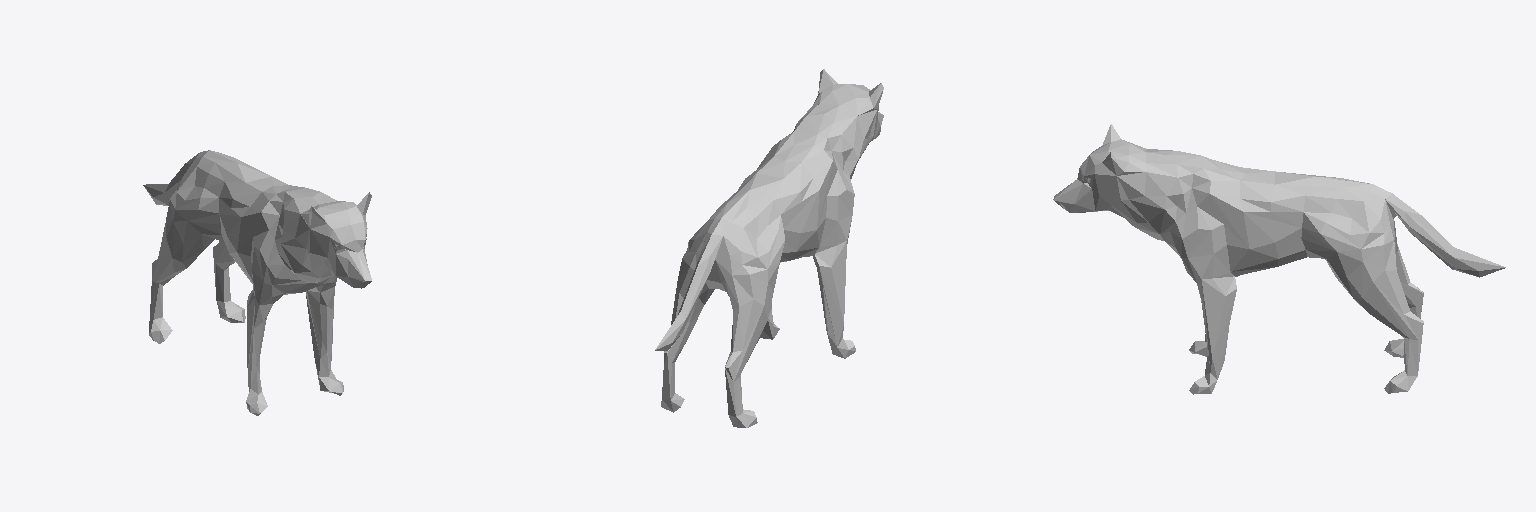
The model's file is wolf.obj.
3 renders of one model, left to right at view 1: azimuth 30°, elevation 25°; view 2: azimuth 150°, elevation 25°; view 3: azimuth 270°, elevation 25°, orthographic.
Parts seen in each view (by area): view 1: Wolf; view 2: Wolf; view 3: Wolf.
Part boxes in pixels (x1,y1,x2,y2): Wolf: (143,150,371,415); Wolf: (655,69,883,427); Wolf: (1053,124,1505,394).
Size of the model in its own units: 0.2918 by 0.7019 by 1.22.